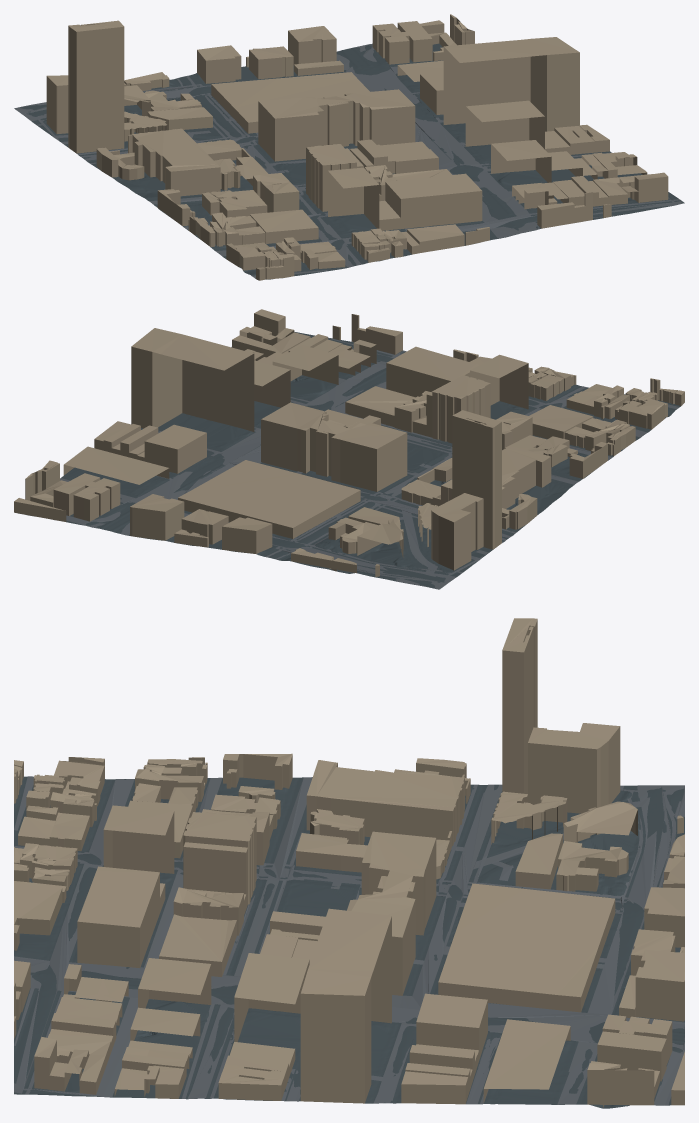
File: epsg26910-1434-10891.lod0.glb
3 renders of one model, top to bottom at view 1: azimuth 30°, elevation 25°; view 2: azimuth 150°, elevation 25°; view 3: azimuth 270°, elevation 25°, orthographic. The views are drawn at different scales.
Parts seen in each view (by area): view 1: epsg26910-1434-10891-lod0; view 2: epsg26910-1434-10891-lod0; view 3: epsg26910-1434-10891-lod0.
Boxes of the visible parts, x1=… form: epsg26910-1434-10891-lod0: x1=14, y1=14, x2=684, y2=280; epsg26910-1434-10891-lod0: x1=14, y1=309, x2=684, y2=589; epsg26910-1434-10891-lod0: x1=14, y1=618, x2=684, y2=1108.
Size of the model in its own units: 384 by 131 by 384.
